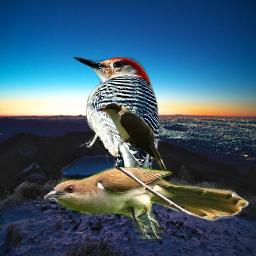Cuckoo: (44, 167, 250, 239), (95, 103, 166, 174)
Woodpecker: (68, 49, 164, 192)
